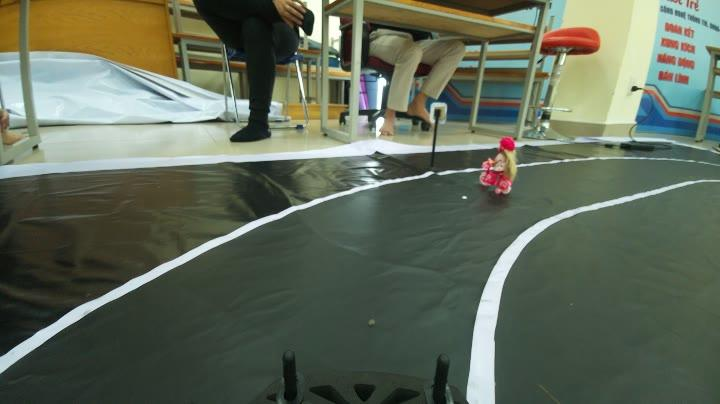pedestrian: (475, 131, 522, 198)
